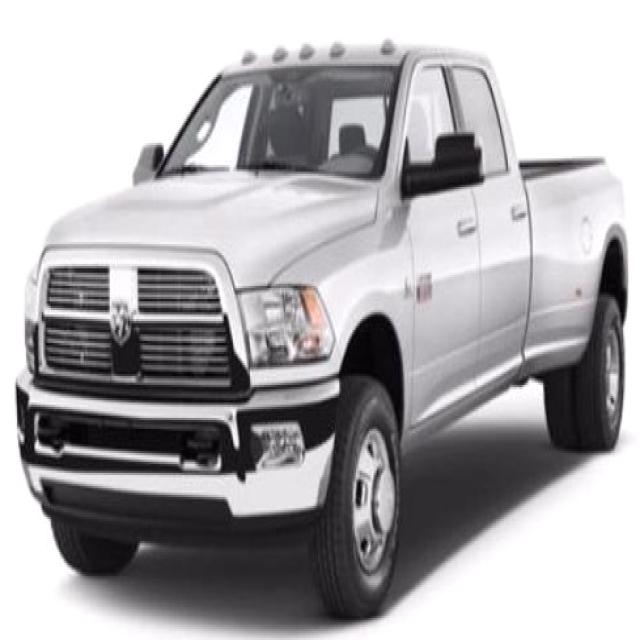CMT: (32, 38, 640, 604)
